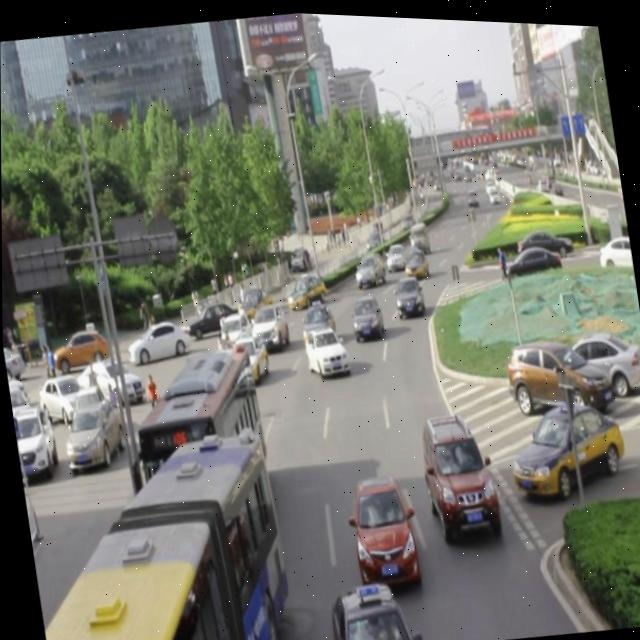car: (503, 385, 626, 495), (417, 403, 503, 538), (345, 465, 420, 585), (324, 571, 416, 640), (123, 313, 193, 367), (302, 318, 350, 377), (220, 332, 270, 387), (181, 350, 226, 411), (185, 294, 244, 339), (248, 299, 291, 354), (296, 296, 337, 346), (347, 289, 385, 339), (216, 307, 255, 355), (391, 270, 425, 317), (286, 269, 328, 307), (350, 246, 386, 286), (400, 242, 428, 278), (382, 236, 407, 267)
van: (17, 419, 297, 640), (129, 346, 273, 523)
